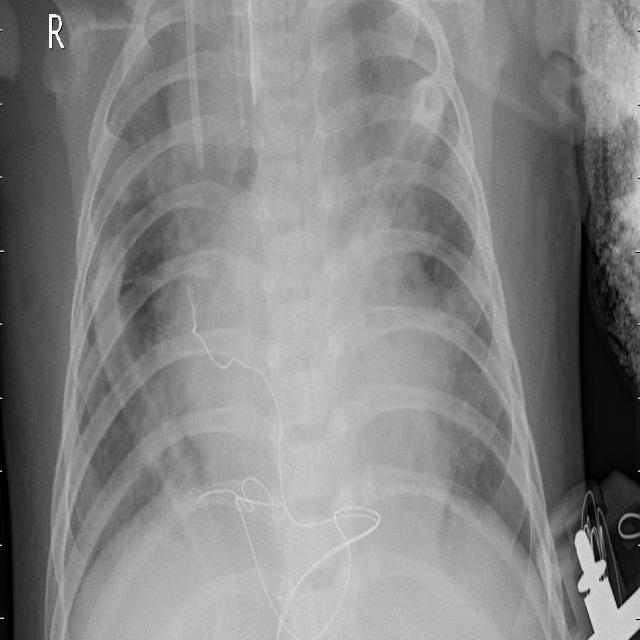high-pneumonia: (157, 18, 251, 204), (360, 86, 446, 279)
low-pneumonia: (119, 324, 213, 503)
